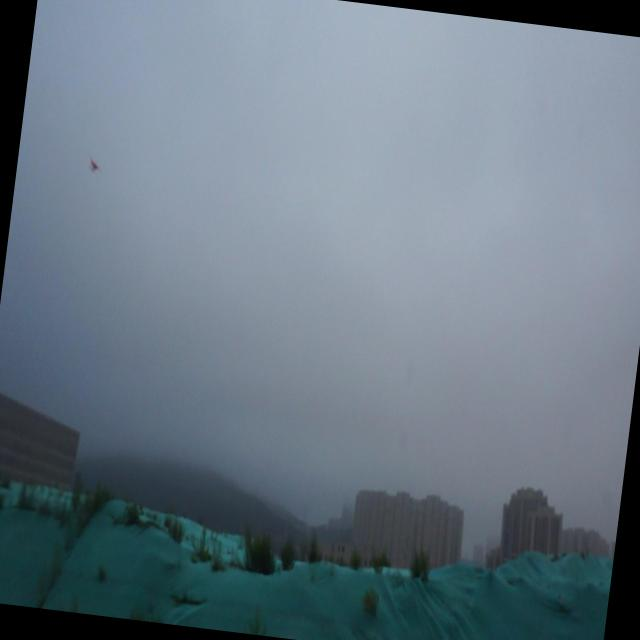drone: (86, 152, 104, 179)
